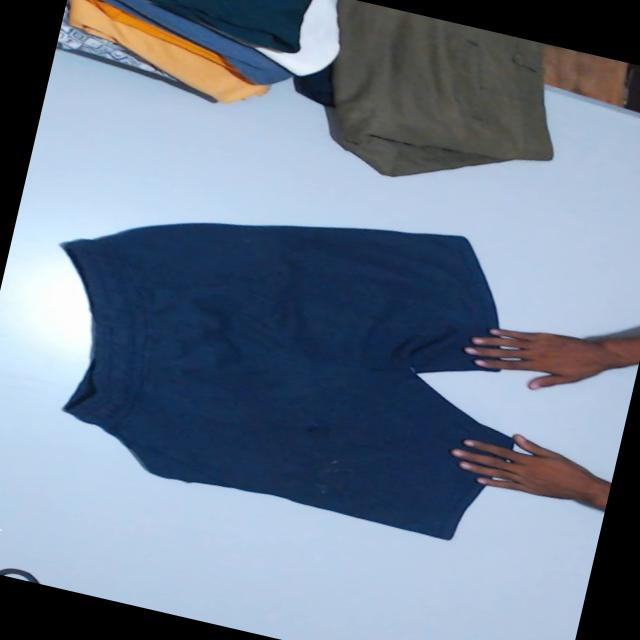new-garment: (62, 223, 512, 539)
